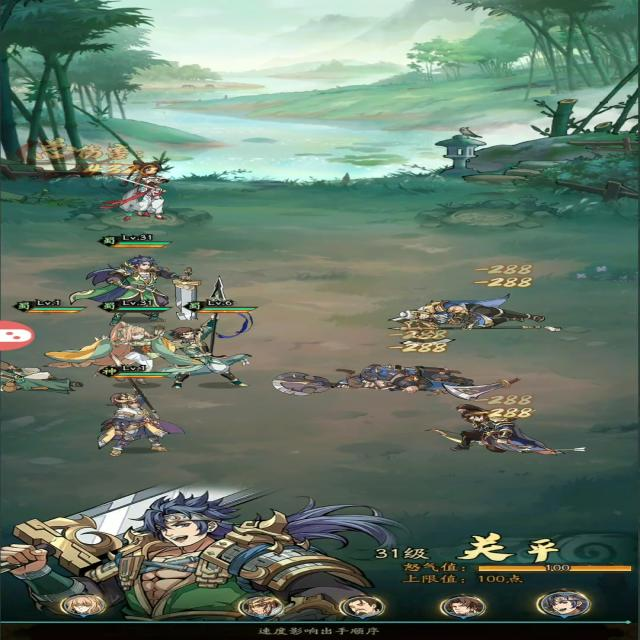hint-guide: (237, 617, 411, 640)
